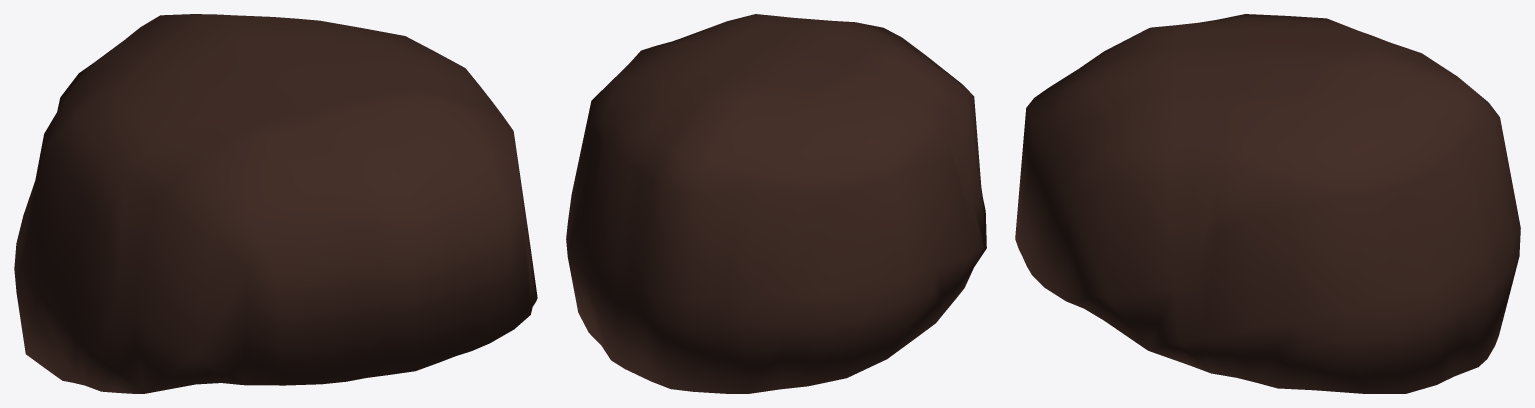
Rendered from Hair01.fbx.
3 renders of one model, left to right at view 1: azimuth 30°, elevation 25°; view 2: azimuth 150°, elevation 25°; view 3: azimuth 270°, elevation 25°, orthographic. The views are drawn at different scales.
Parts seen in each view (by area): view 1: Hair01; view 2: Hair01; view 3: Hair01.
Part boxes in pixels (x1=…): Hair01: x1=14, y1=14, x2=537, y2=393; Hair01: x1=566, y1=14, x2=986, y2=393; Hair01: x1=1015, y1=14, x2=1520, y2=393.
Size of the model in its own units: 28.56 by 19.46 by 31.72.
